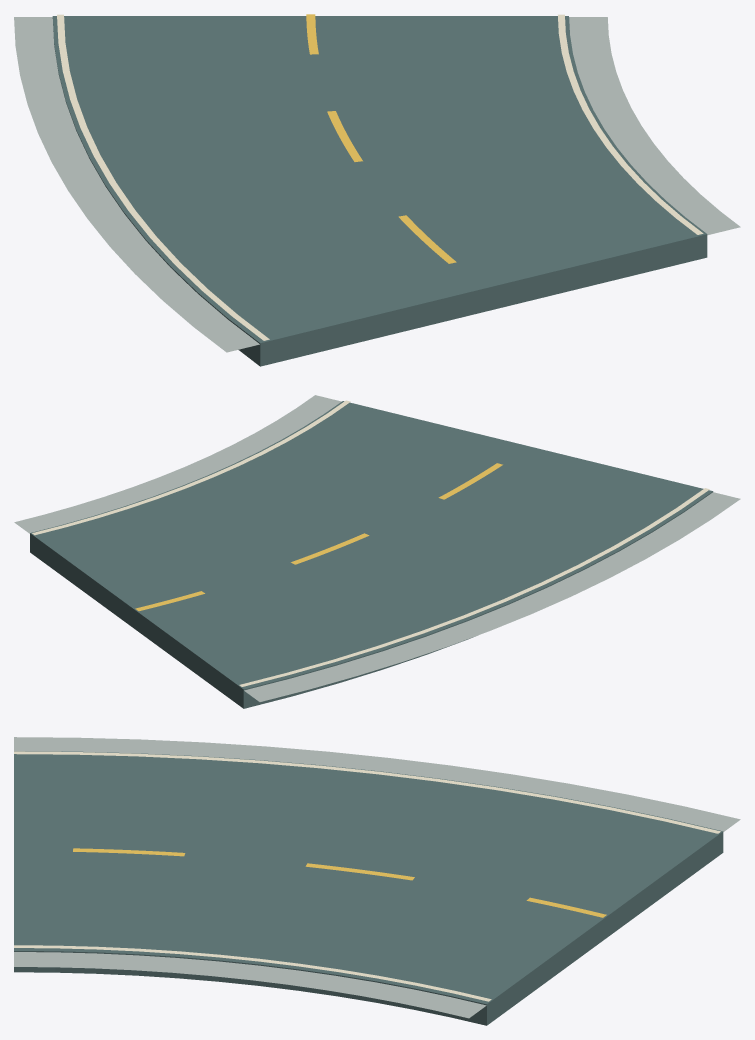
The model's file is road_curve.glb.
3 renders of one model, top to bottom at view 1: azimuth 30°, elevation 25°; view 2: azimuth 150°, elevation 25°; view 3: azimuth 270°, elevation 25°, orthographic. The views are drawn at different scales.
Visible parts, largest first — view 1: road_curve.Root_Asphalt, road_curve.Root_Concrete, road_curve.Root_Cream, road_curve.Root_Yellow; view 2: road_curve.Root_Asphalt, road_curve.Root_Concrete, road_curve.Root_Cream, road_curve.Root_Yellow; view 3: road_curve.Root_Asphalt, road_curve.Root_Concrete, road_curve.Root_Cream, road_curve.Root_Yellow.
Boxes of the visible parts, <box> form: road_curve.Root_Asphalt: <box>52,16,707,366</box>; road_curve.Root_Concrete: <box>14,17,740,352</box>; road_curve.Root_Cream: <box>57,14,703,340</box>; road_curve.Root_Yellow: <box>306,14,456,263</box>; road_curve.Root_Asphalt: <box>30,401,713,708</box>; road_curve.Root_Concrete: <box>14,395,740,701</box>; road_curve.Root_Cream: <box>32,400,709,686</box>; road_curve.Root_Yellow: <box>135,463,502,611</box>; road_curve.Root_Asphalt: <box>14,751,723,1025</box>; road_curve.Root_Concrete: <box>14,737,740,1018</box>; road_curve.Root_Cream: <box>14,751,720,1001</box>; road_curve.Root_Yellow: <box>73,848,606,917</box>.
Bounding box in the file's own units: 5.63 × 0.214 × 6.15.
